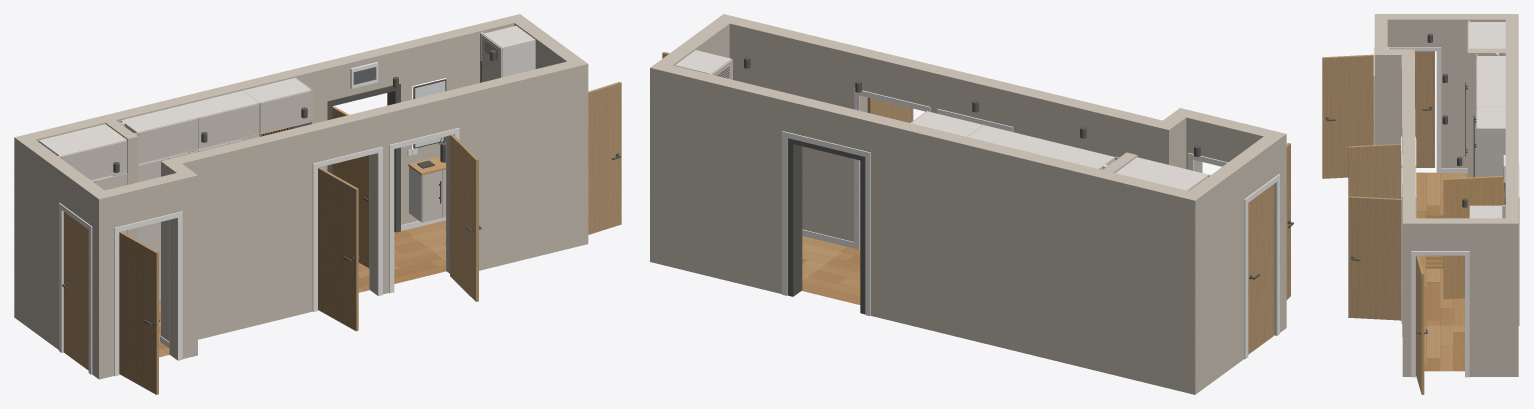
Rendered from koridor.glb.
3 views of the same model, side by side, from view 1: azimuth 30°, elevation 25°; view 2: azimuth 150°, elevation 25°; view 3: azimuth 270°, elevation 25° (orthographic). The views are drawn at different scales.
Size of the model in its own units: 8.3 by 2.58 by 3.01.
39 materials, 7 textured.
